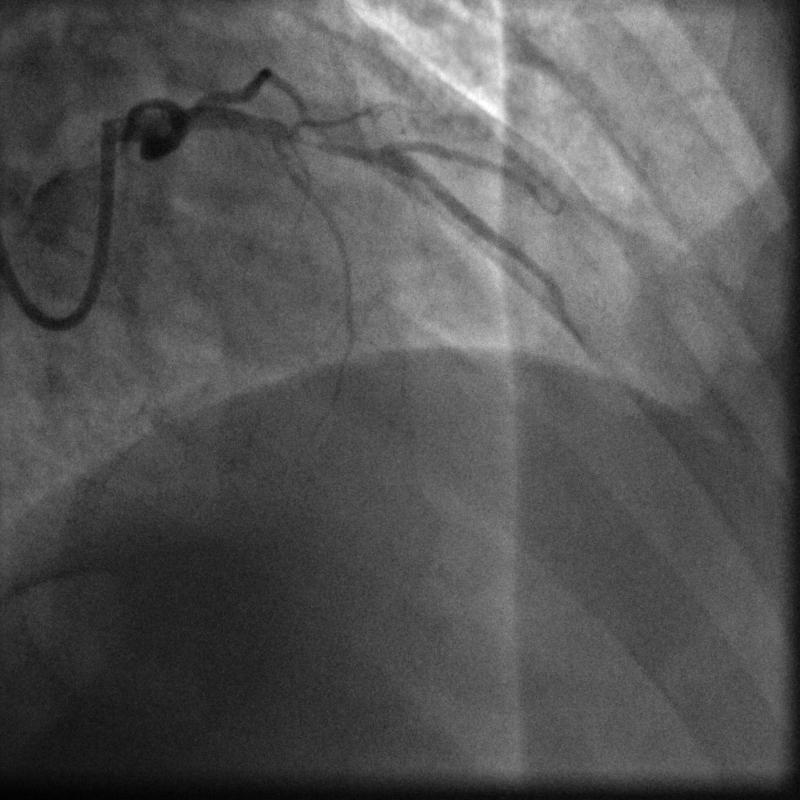Stenosis: (281, 128, 384, 162)
